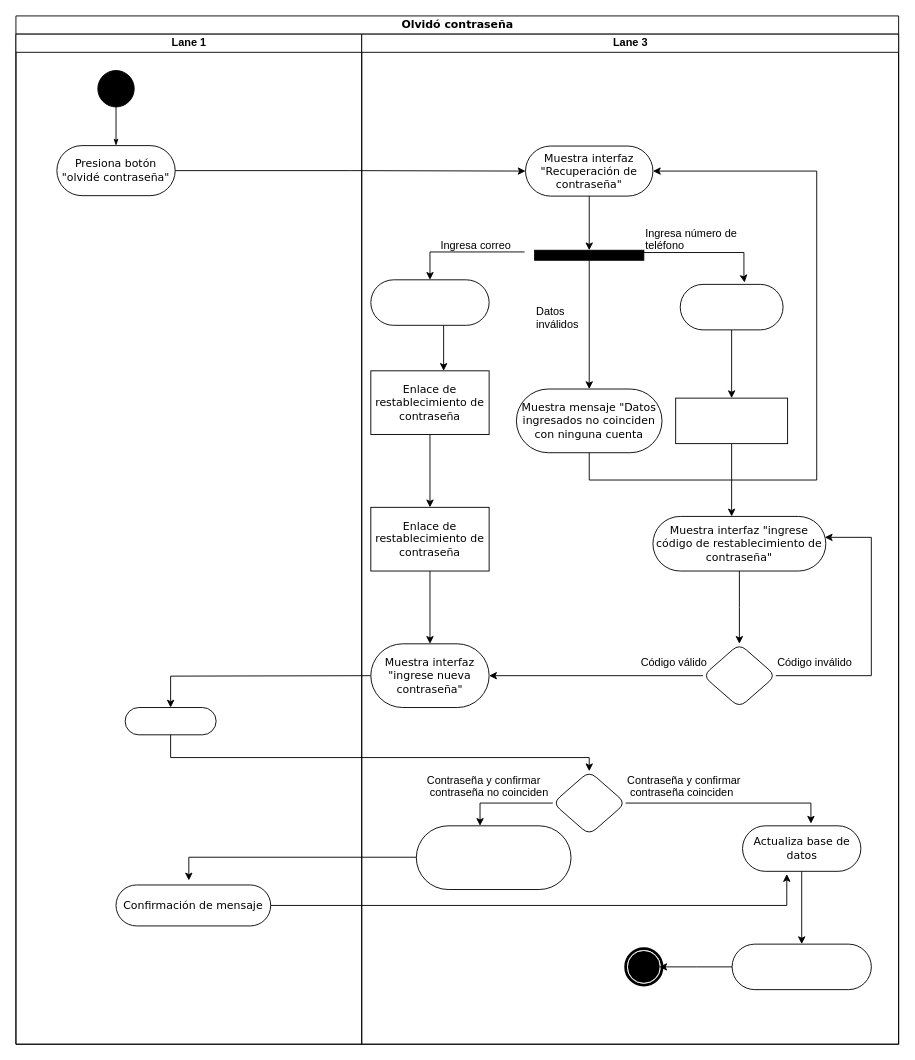
Image size: 915x1060. Some labels were removed from this diagram. The shapes that lost their labels are listed below. From the top down, each one's centre as x and y in pixels, then its label:
[429,302]: Envía correo electrónico
[731,306]: Envía mensaje de texto
[731,420]: Código de restablecimiento de contraseña
[170,721]: Ingresa datos
[493,857]: Muestra mensaje "campos contraseña y confirmar contrasñea no coinciden"
[801,966]: Muestra mensaje "contraseña modificada con éxito"
